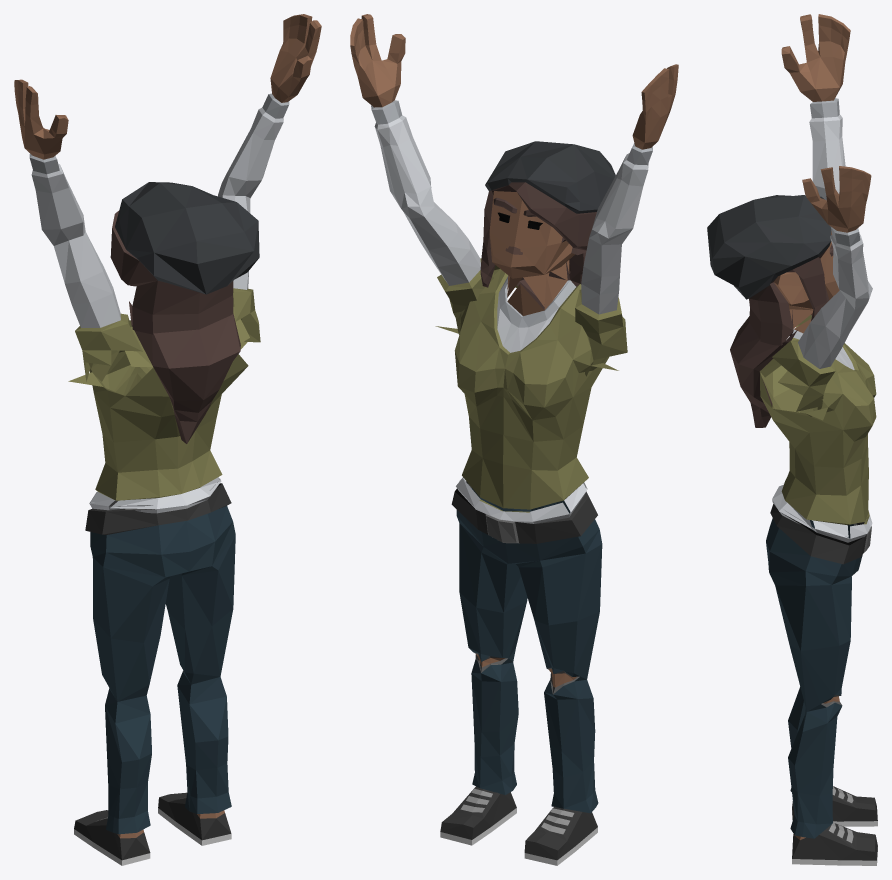
Rendered from Demon_Daughter_01_cheer.obj.
3 renders of one model, left to right at view 1: azimuth 30°, elevation 25°; view 2: azimuth 150°, elevation 25°; view 3: azimuth 270°, elevation 25°, orthographic. The views are drawn at different scales.
Parts seen in each view (by area): view 1: Demon_Daughter_01_cheer; view 2: Demon_Daughter_01_cheer; view 3: Demon_Daughter_01_cheer.
Part boxes in pixels (box(x1,y1,x2,y2)): Demon_Daughter_01_cheer: box(14, 14, 321, 865); Demon_Daughter_01_cheer: box(350, 14, 678, 865); Demon_Daughter_01_cheer: box(707, 14, 877, 865).
Bounding box in the file's own units: 0.8675 × 2.18 × 0.444.
1 material, 1 textured.
